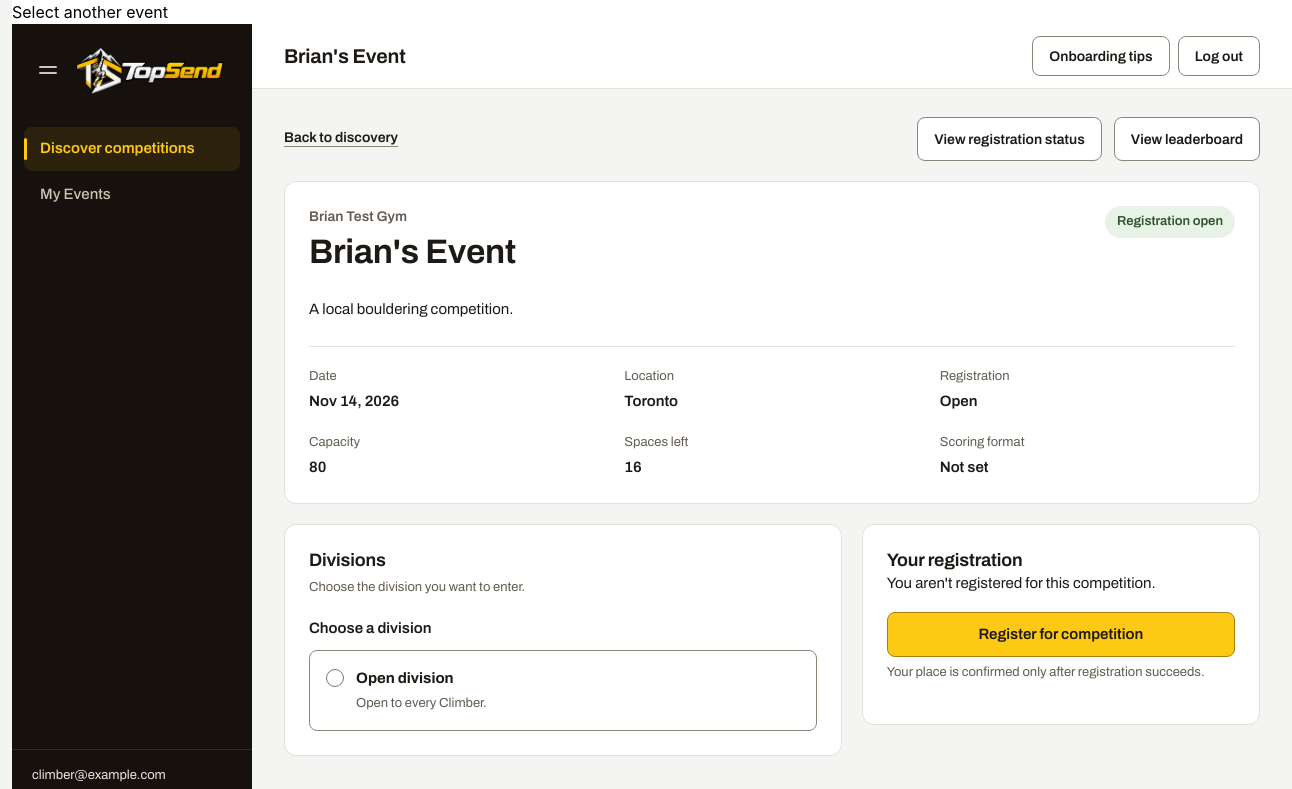
it: US-028 live event page integrated with #109/#110 › keeps the confirmation and the loaded details when reading the event again fails
The image size is (1292, 789).
expect the element named "Competition event details" is shown: met, box [284,181,1260,504]
Click the radio button labelled "Open division" at (335, 678), box [326,669,344,687]
(page scrolled)
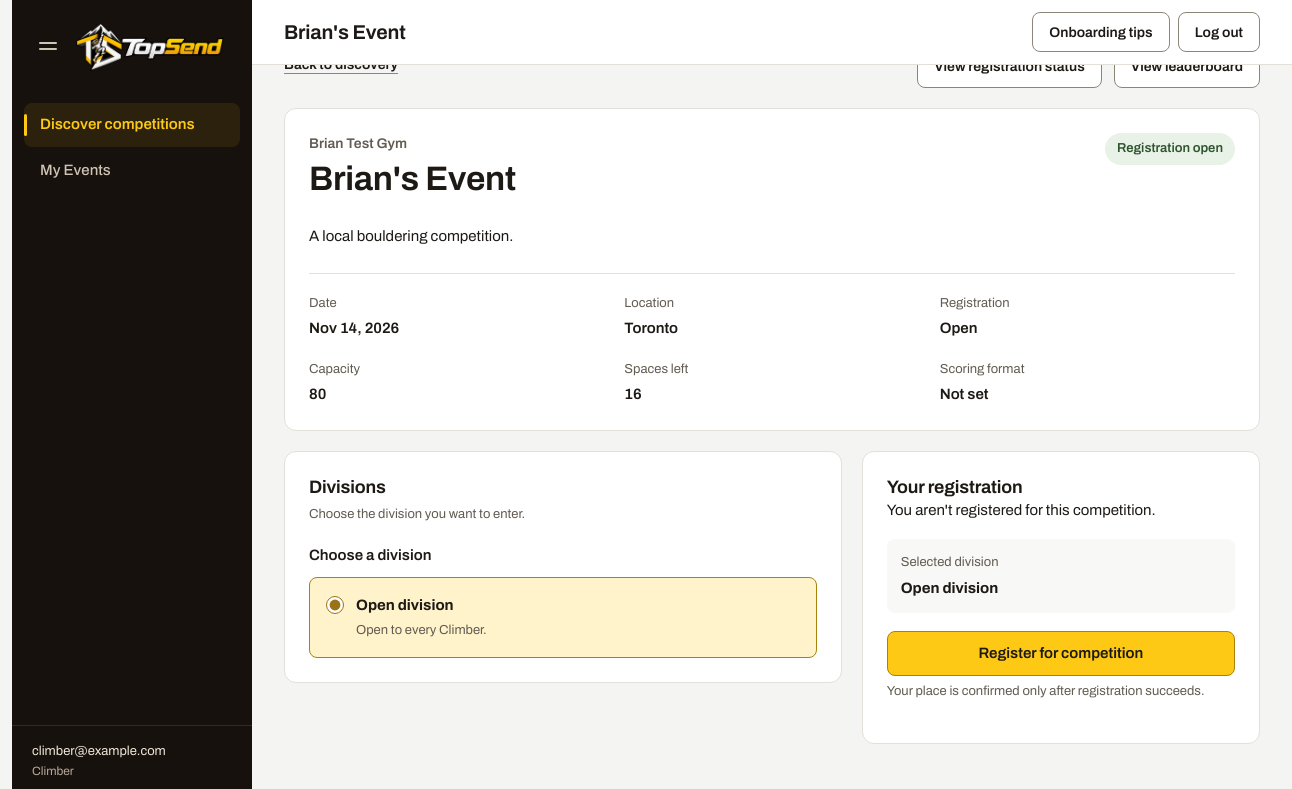
Submit the form named "Competition registration", box [284,450,1260,744]
(page scrolled)
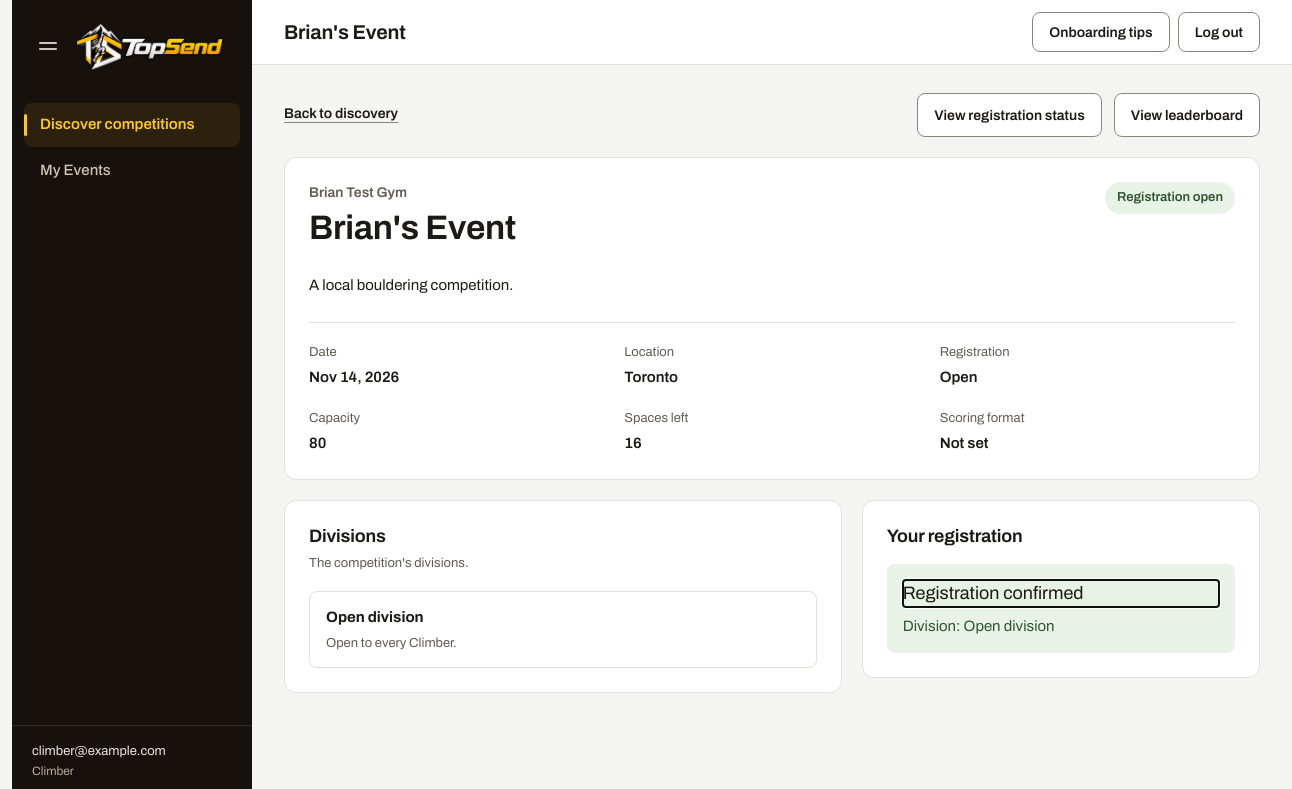
expect the text "16" is shown: met, box [624,435,642,451]
expect the heading "Registration confirmed" is shown: met, box [903,583,1084,603]
